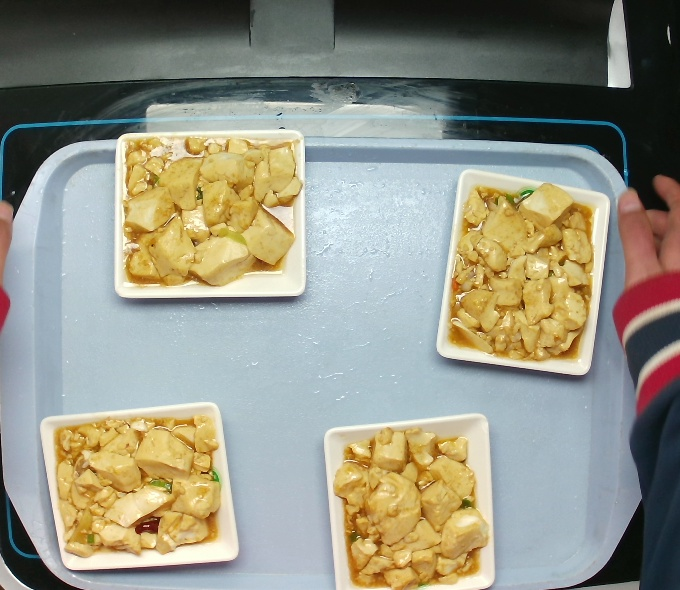wcq-DouFu: (436, 188, 617, 360), (120, 130, 300, 292), (49, 422, 220, 561), (340, 421, 481, 589)
